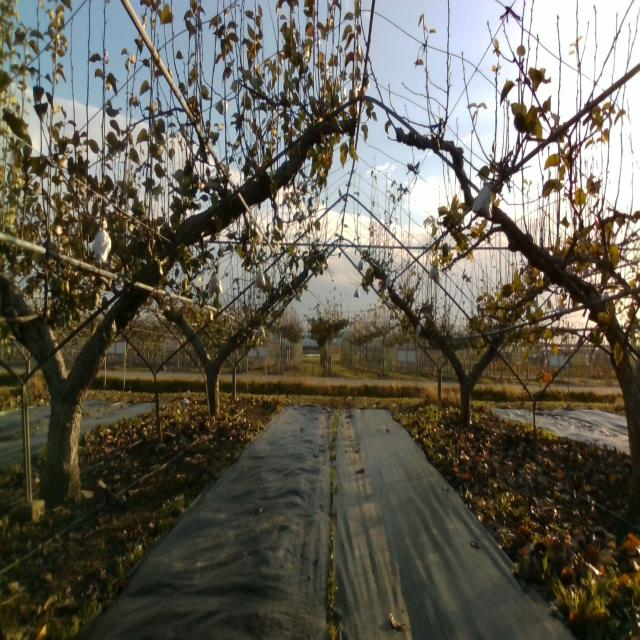pearbags: (472, 182, 493, 218), (96, 220, 112, 262), (208, 274, 225, 295), (253, 266, 267, 287)
